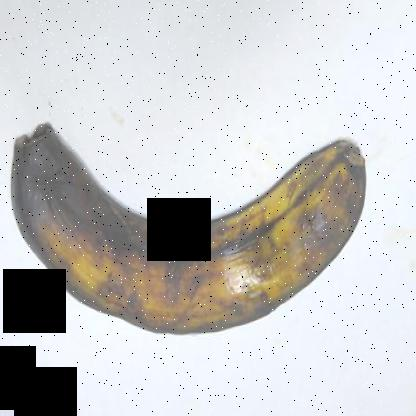overripe: (0, 101, 374, 347)
